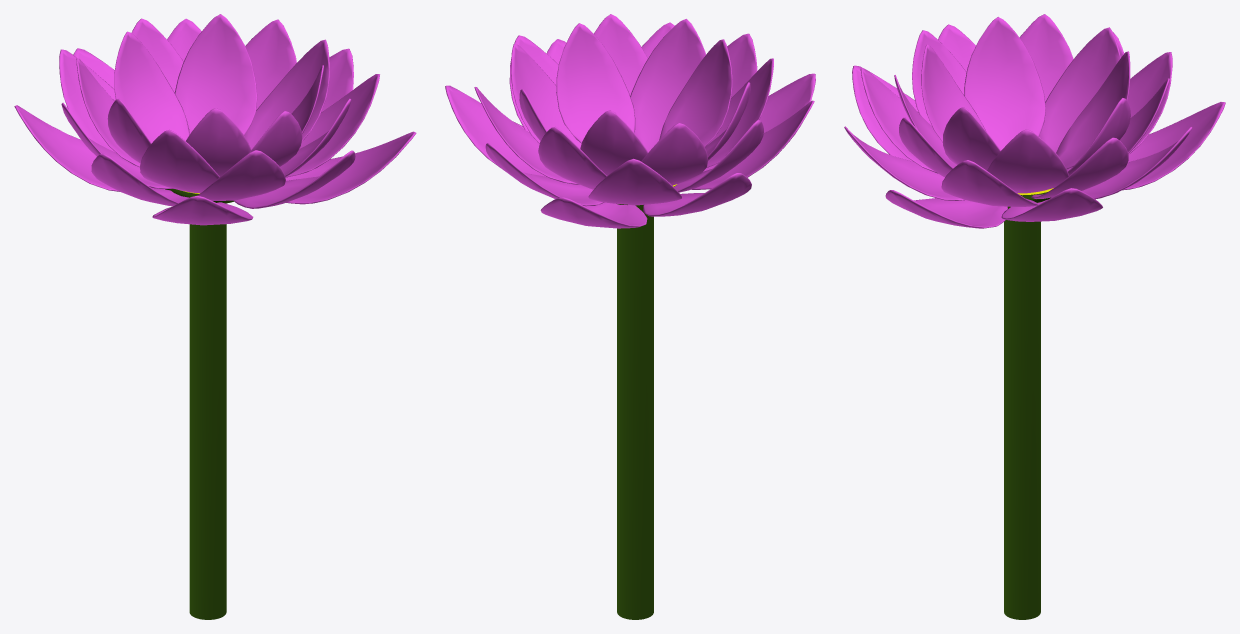
The model's file is Lotus.gltf.
The picture shows the model from 3 angles, left to right: view 1: azimuth 30°, elevation 25°; view 2: azimuth 150°, elevation 25°; view 3: azimuth 270°, elevation 25°; orthographic projection.
Visible parts, largest first — view 1: Flower, Cylinder; view 2: Flower, Cylinder; view 3: Flower, Cylinder.
Boxes of the visible parts, x1=… form: Flower: x1=14, y1=14, x2=416, y2=225; Cylinder: x1=165, y1=189, x2=233, y2=619; Flower: x1=445, y1=14, x2=815, y2=228; Cylinder: x1=617, y1=184, x2=676, y2=619; Flower: x1=844, y1=14, x2=1225, y2=228; Cylinder: x1=1004, y1=188, x2=1053, y2=619.
Bounding box in the file's own units: 0.3527 × 0.5877 × 0.3711.
